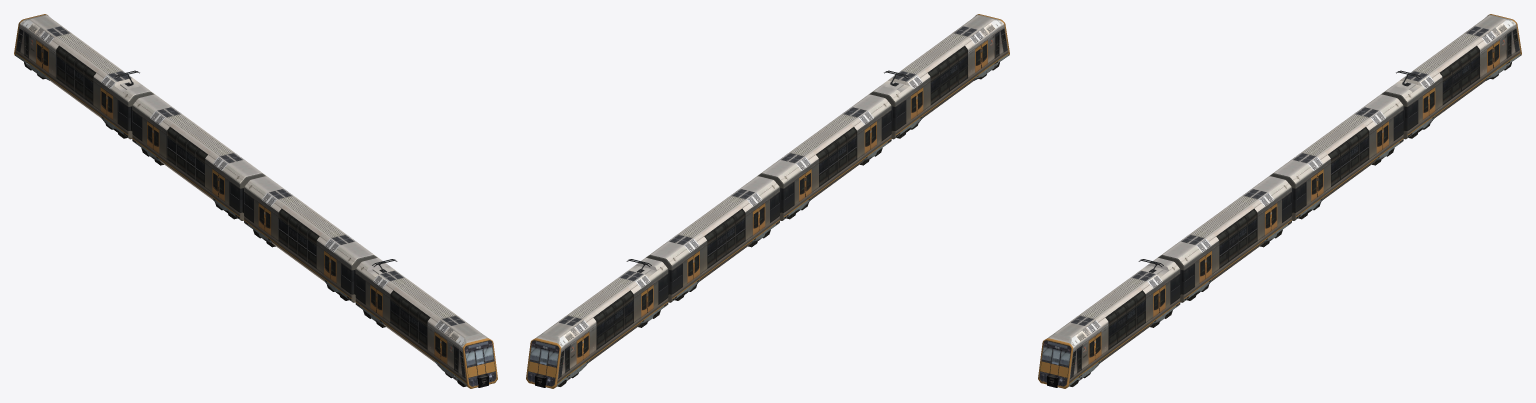
File: train_1.glb
3 renders of one model, left to right at view 1: azimuth 30°, elevation 25°; view 2: azimuth 150°, elevation 25°; view 3: azimuth 330°, elevation 25°, orthographic.
Parts seen in each view (by area): view 1: Cube.003_7, Cube_0, Cube.001_4, Cube.002_6; view 2: Cube_0, Cube.003_7, Cube.002_6, Cube.001_4; view 3: Cube.003_7, Cube_0, Cube.001_4, Cube.002_6.
Part boxes in pixels (box(x1,y1,x2,y2)): Cube.003_7: box(355, 258, 497, 388); Cube_0: box(14, 14, 154, 139); Cube.001_4: box(132, 94, 266, 220); Cube.002_6: box(244, 176, 378, 302); Cube_0: box(526, 258, 668, 388); Cube.003_7: box(869, 14, 1009, 139); Cube.002_6: box(757, 94, 891, 220); Cube.001_4: box(645, 176, 779, 302); Cube.003_7: box(1038, 258, 1180, 388); Cube_0: box(1381, 14, 1521, 139); Cube.001_4: box(1269, 94, 1403, 220); Cube.002_6: box(1157, 176, 1291, 302).
Bounding box in the file's own units: 1.77 × 3.18 × 46.6.
7 materials, 7 textured.
